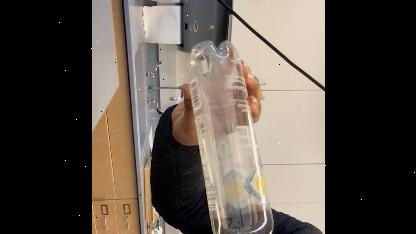Plastic Bottle: (180, 34, 267, 234)
